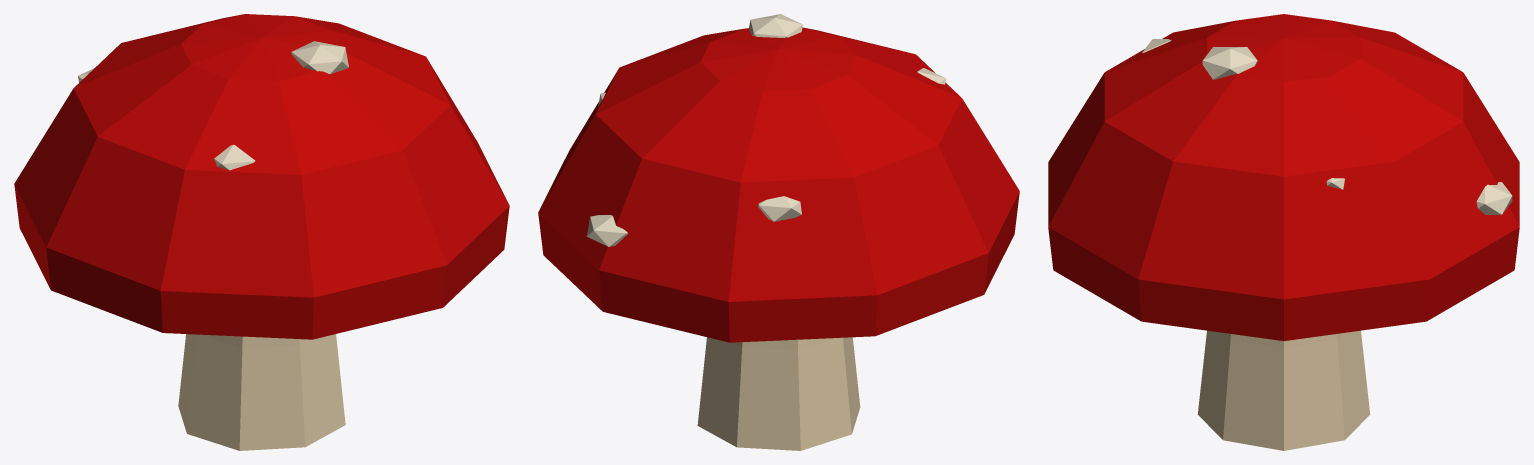
The model's file is mushroom.obj.
3 renders of one model, left to right at view 1: azimuth 30°, elevation 25°; view 2: azimuth 150°, elevation 25°; view 3: azimuth 270°, elevation 25°, orthographic. The views are drawn at different scales.
Parts seen in each view (by area): view 1: mushroom; view 2: mushroom; view 3: mushroom.
Part boxes in pixels (<box>): mushroom: <box>14,14,509,450</box>; mushroom: <box>538,14,1019,450</box>; mushroom: <box>1048,14,1519,450</box>.
Bounding box in the file's own units: 0.092 × 0.078 × 0.0875.
